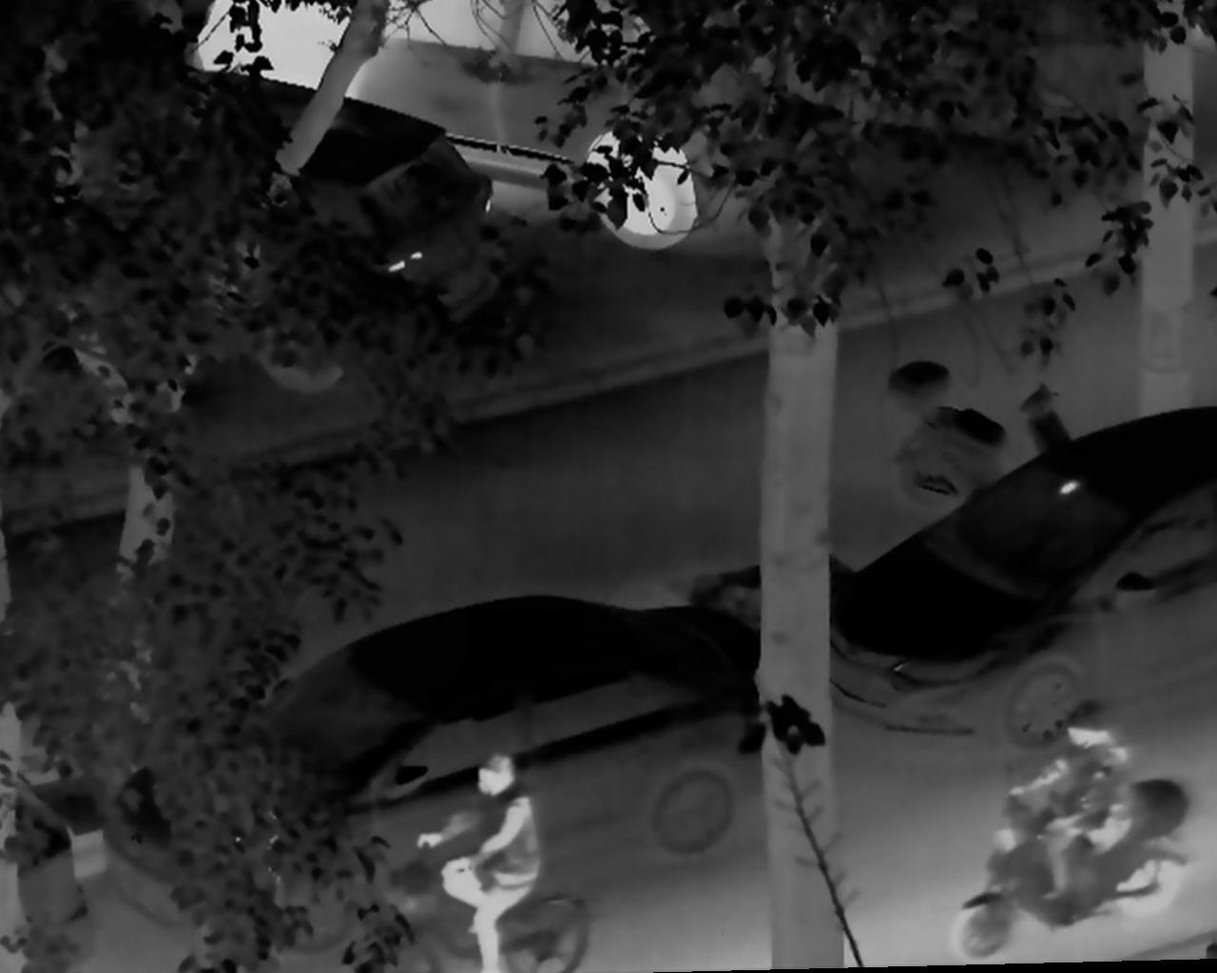person: (411, 738, 543, 973), (1011, 703, 1138, 910)
